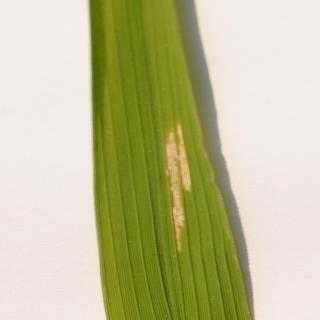Hawar-Daun: (145, 116, 212, 264)
